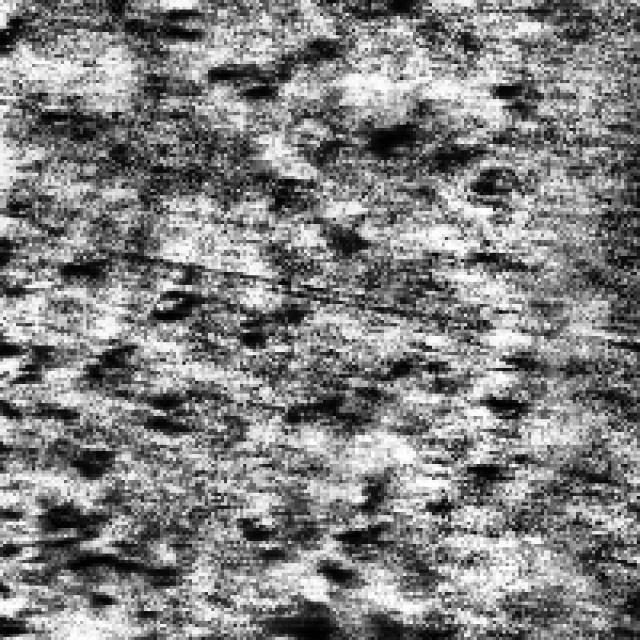Crazing: (6, 352, 404, 624), (218, 67, 540, 221)
